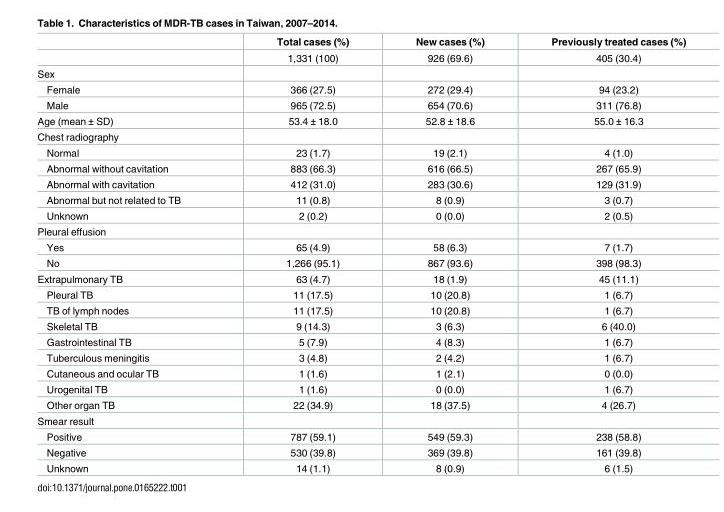table: (36, 36, 685, 473)
table column: (36, 36, 228, 473), (517, 36, 685, 473), (228, 36, 381, 473), (381, 36, 517, 473)
table column header: (36, 36, 685, 49)
table projected row header: (36, 223, 685, 239), (36, 413, 685, 429), (36, 66, 685, 81), (36, 129, 685, 144)
table row: (36, 49, 685, 66), (36, 112, 685, 129), (36, 81, 685, 97), (36, 144, 685, 160), (36, 160, 685, 176), (36, 176, 685, 192), (36, 192, 685, 208), (36, 223, 685, 239), (36, 239, 685, 255), (36, 255, 685, 271), (36, 286, 685, 302), (36, 302, 685, 318), (36, 318, 685, 334), (36, 334, 685, 350), (36, 365, 685, 381), (36, 381, 685, 397), (36, 397, 685, 413), (36, 413, 685, 429), (36, 444, 685, 460), (36, 66, 685, 81), (36, 97, 685, 112), (36, 129, 685, 144), (36, 208, 685, 223), (36, 271, 685, 286), (36, 350, 685, 365), (36, 429, 685, 444), (36, 36, 685, 49), (36, 460, 685, 473)
